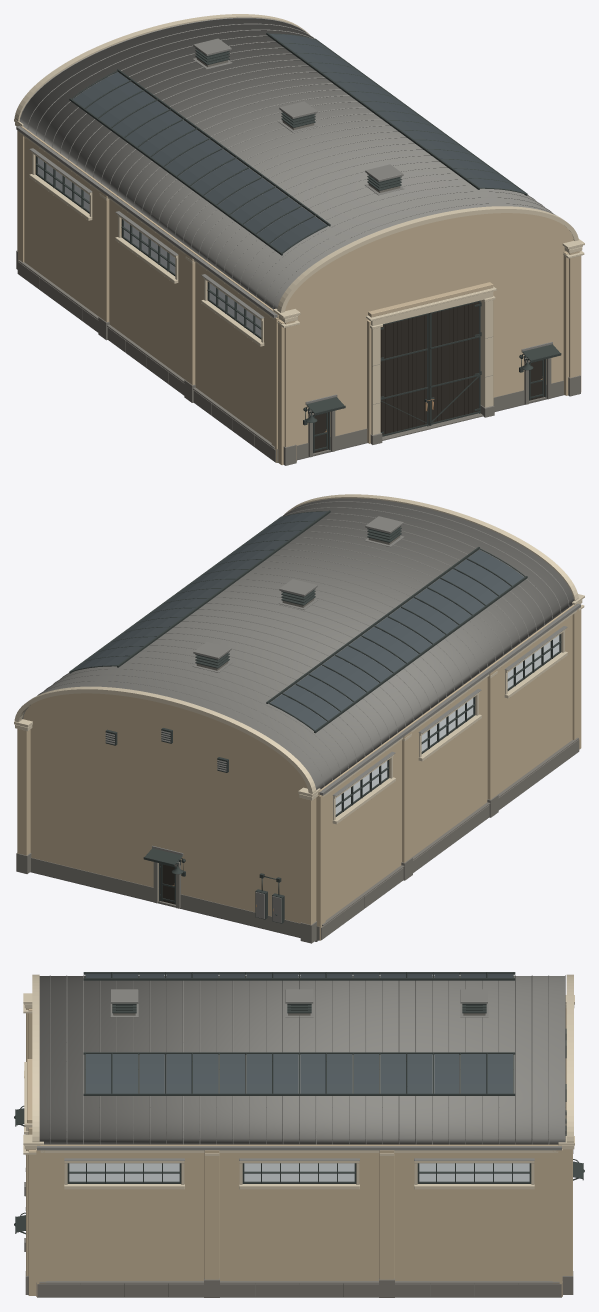
Rendered from StudioSoundStage_1930.fbx.
3 views of the same model, one above another, from view 1: azimuth 30°, elevation 25°; view 2: azimuth 150°, elevation 25°; view 3: azimuth 270°, elevation 25° (orthographic).
Parts seen in each view (by area): view 1: Roof, ExteriorShell, ArchitecturalDetails, RoofBlackout, StageDoorRight, StageDoorLeft, Foundation, Glass, Utilities, Windows, DoorFrames, PersonnelRight (+1 smaller); view 2: ExteriorShell, Roof, RoofBlackout, ArchitecturalDetails, Foundation, Utilities, Glass, Windows, PersonnelRear; view 3: Roof, ExteriorShell, ArchitecturalDetails, RoofBlackout, Foundation, Glass, Utilities, Windows, Floor.
Boxes of the visible parts, bbox=[...] form: Roof: bbox=[19, 17, 573, 309]; ExteriorShell: bbox=[20, 125, 573, 445]; ArchitecturalDetails: bbox=[14, 14, 584, 465]; RoofBlackout: bbox=[69, 32, 527, 255]; StageDoorRight: bbox=[427, 300, 481, 425]; StageDoorLeft: bbox=[380, 313, 428, 436]; Foundation: bbox=[17, 261, 563, 462]; Glass: bbox=[38, 157, 261, 336]; Utilities: bbox=[16, 126, 523, 425]; Windows: bbox=[35, 156, 261, 339]; DoorFrames: bbox=[308, 302, 551, 457]; PersonnelRight: bbox=[529, 359, 544, 400]; ExteriorShell: bbox=[23, 603, 576, 923]; Roof: bbox=[22, 498, 573, 789]; RoofBlackout: bbox=[69, 510, 527, 733]; ArchitecturalDetails: bbox=[14, 494, 584, 943]; Foundation: bbox=[31, 739, 579, 940]; Utilities: bbox=[105, 603, 580, 923]; Glass: bbox=[335, 635, 559, 814]; Windows: bbox=[335, 634, 561, 816]; PersonnelRear: bbox=[160, 863, 175, 904]; Roof: bbox=[39, 975, 565, 1144]; ExteriorShell: bbox=[37, 1144, 565, 1280]; ArchitecturalDetails: bbox=[15, 974, 583, 1297]; RoofBlackout: bbox=[83, 972, 515, 1095]; Foundation: bbox=[36, 1281, 562, 1296]; Glass: bbox=[69, 1163, 529, 1181]; Utilities: bbox=[37, 1028, 566, 1150]; Windows: bbox=[67, 1163, 531, 1183]; Floor: bbox=[37, 1296, 561, 1297].
Bounding box in the file's own units: 16.52 × 11.55 × 26.11.
